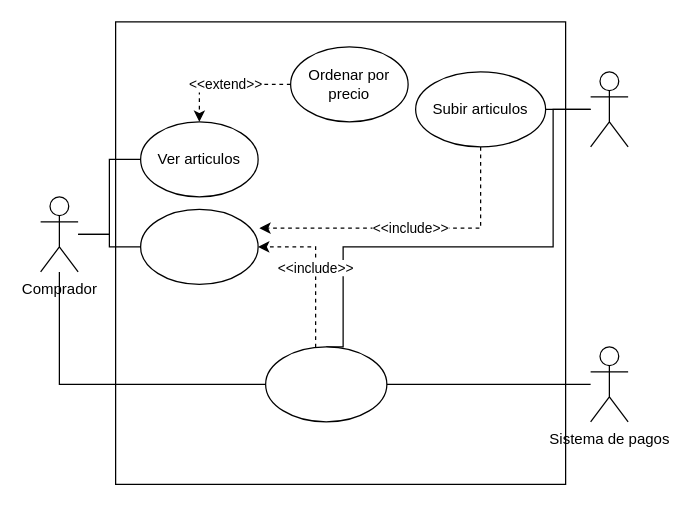
Image size: 690x506. Some labels were removed from this diagram. The centre of each missing label's shape, as x and y in pixels:
Comprar articulos: [325,384]
Iniciar sesion: [198,246]
Vendedor: [608,109]
